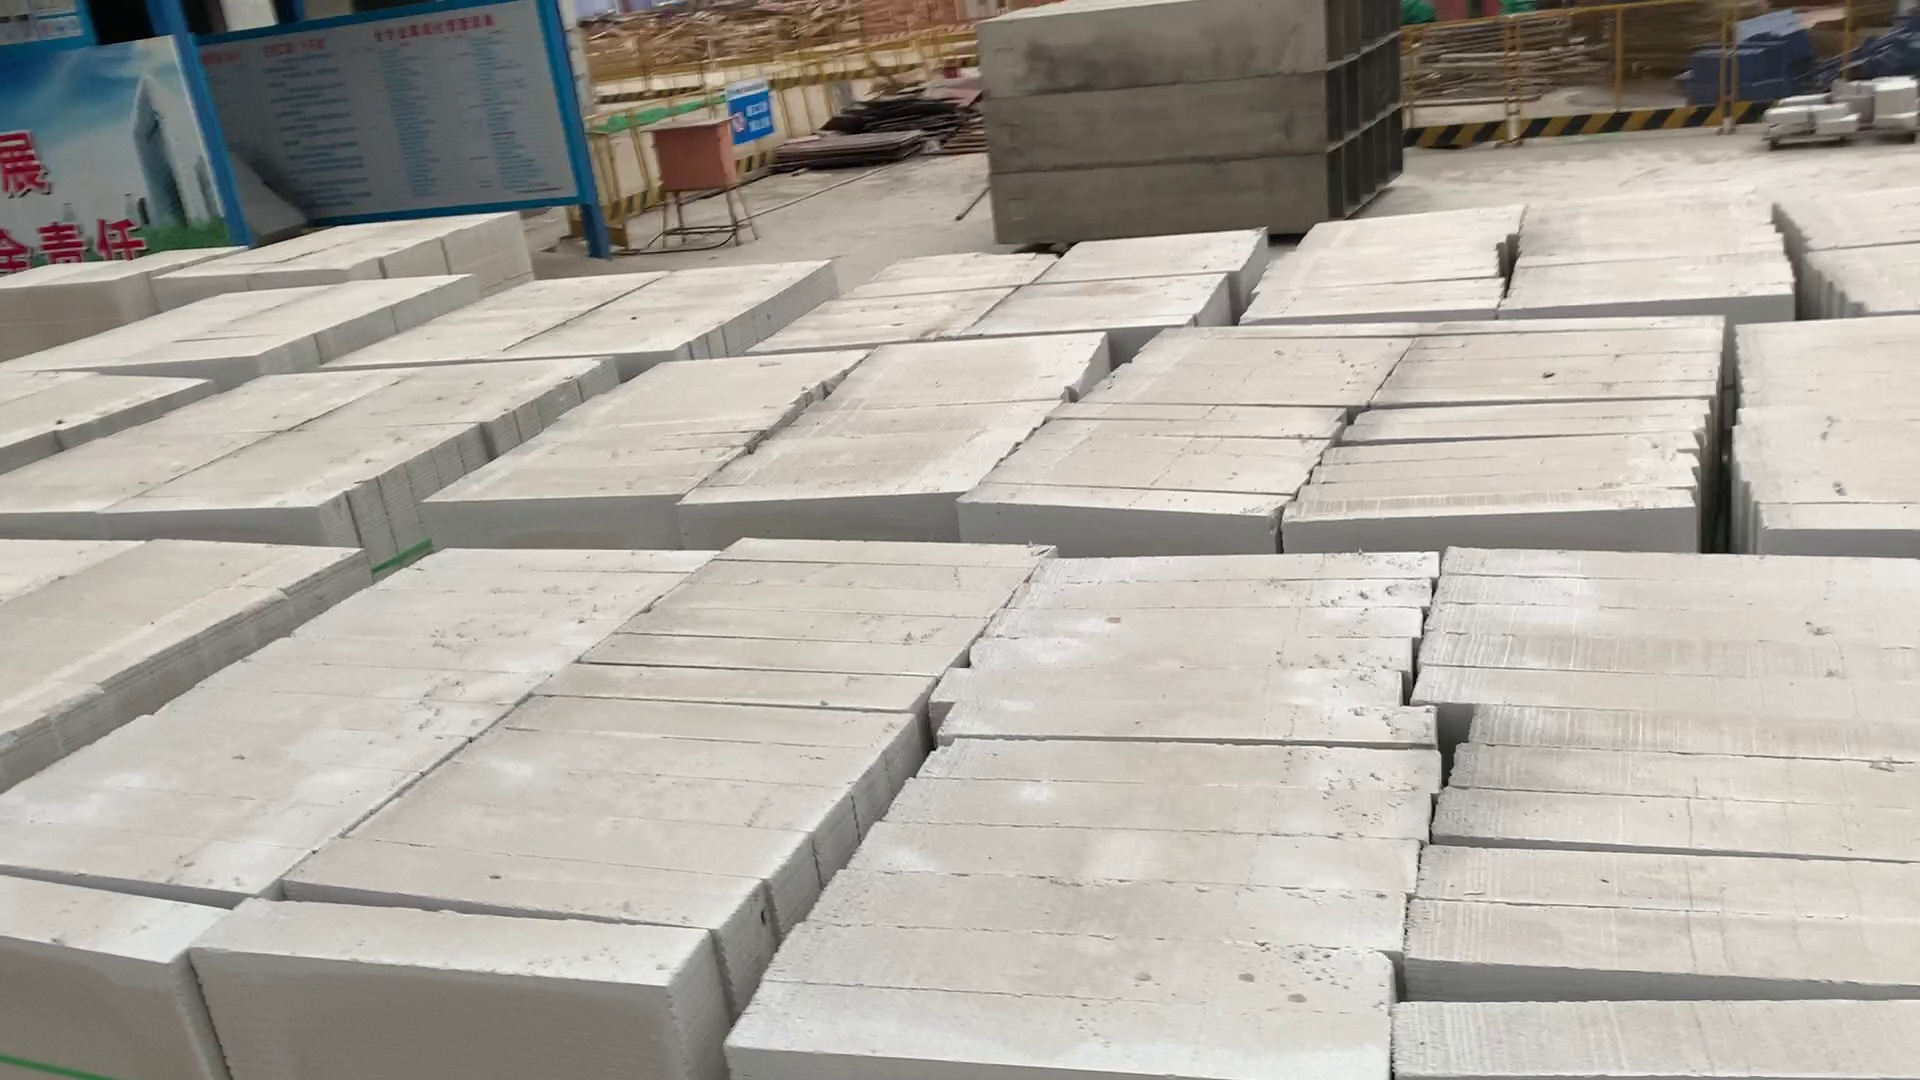brickwork: (737, 560, 1913, 1080), (18, 535, 1047, 992), (1031, 323, 1722, 545), (481, 335, 1091, 498), (15, 376, 600, 514), (3, 537, 361, 749), (1257, 210, 1795, 320), (1722, 319, 1917, 558), (796, 243, 1246, 320), (69, 276, 472, 357), (396, 276, 811, 353), (202, 204, 492, 270), (1, 357, 207, 450), (1774, 195, 1920, 313), (12, 243, 193, 302)
